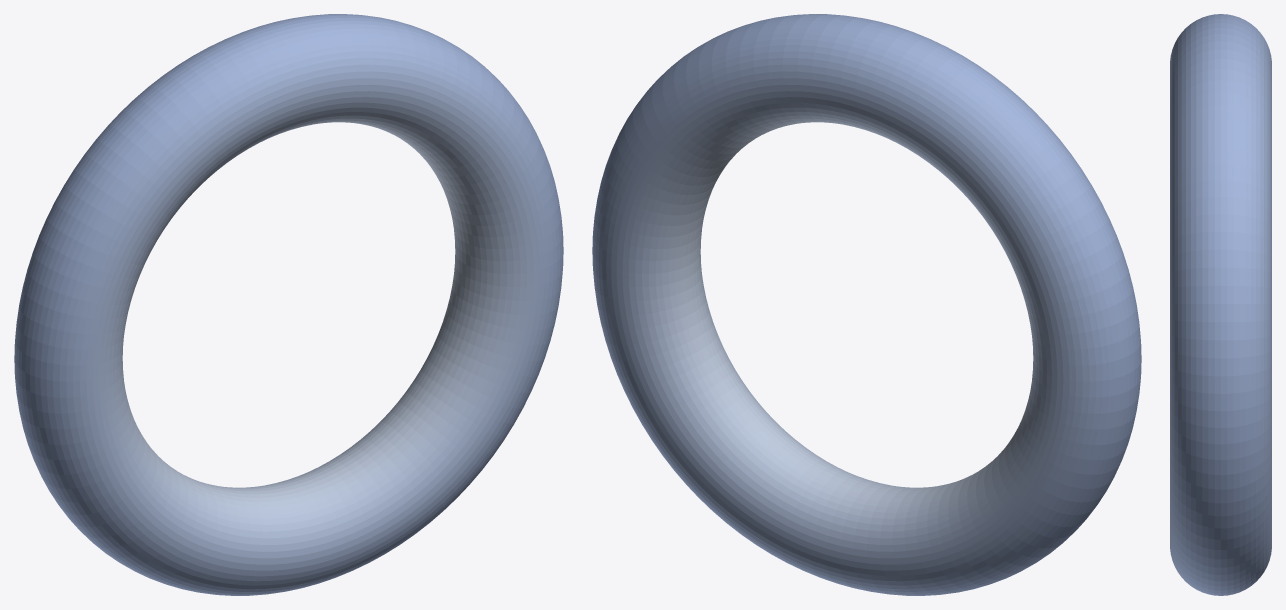
3 views of the same model, side by side, from view 1: azimuth 30°, elevation 25°; view 2: azimuth 150°, elevation 25°; view 3: azimuth 270°, elevation 25° (orthographic). The views are drawn at different scales.
Visible parts, largest first — view 1: world; view 2: world; view 3: world.
Part boxes in pixels (bbox=[...]): world: bbox=[14, 14, 563, 595]; world: bbox=[592, 14, 1141, 595]; world: bbox=[1170, 14, 1271, 595].
Size of the model in its own units: 25.07 by 25.07 by 4.39.
